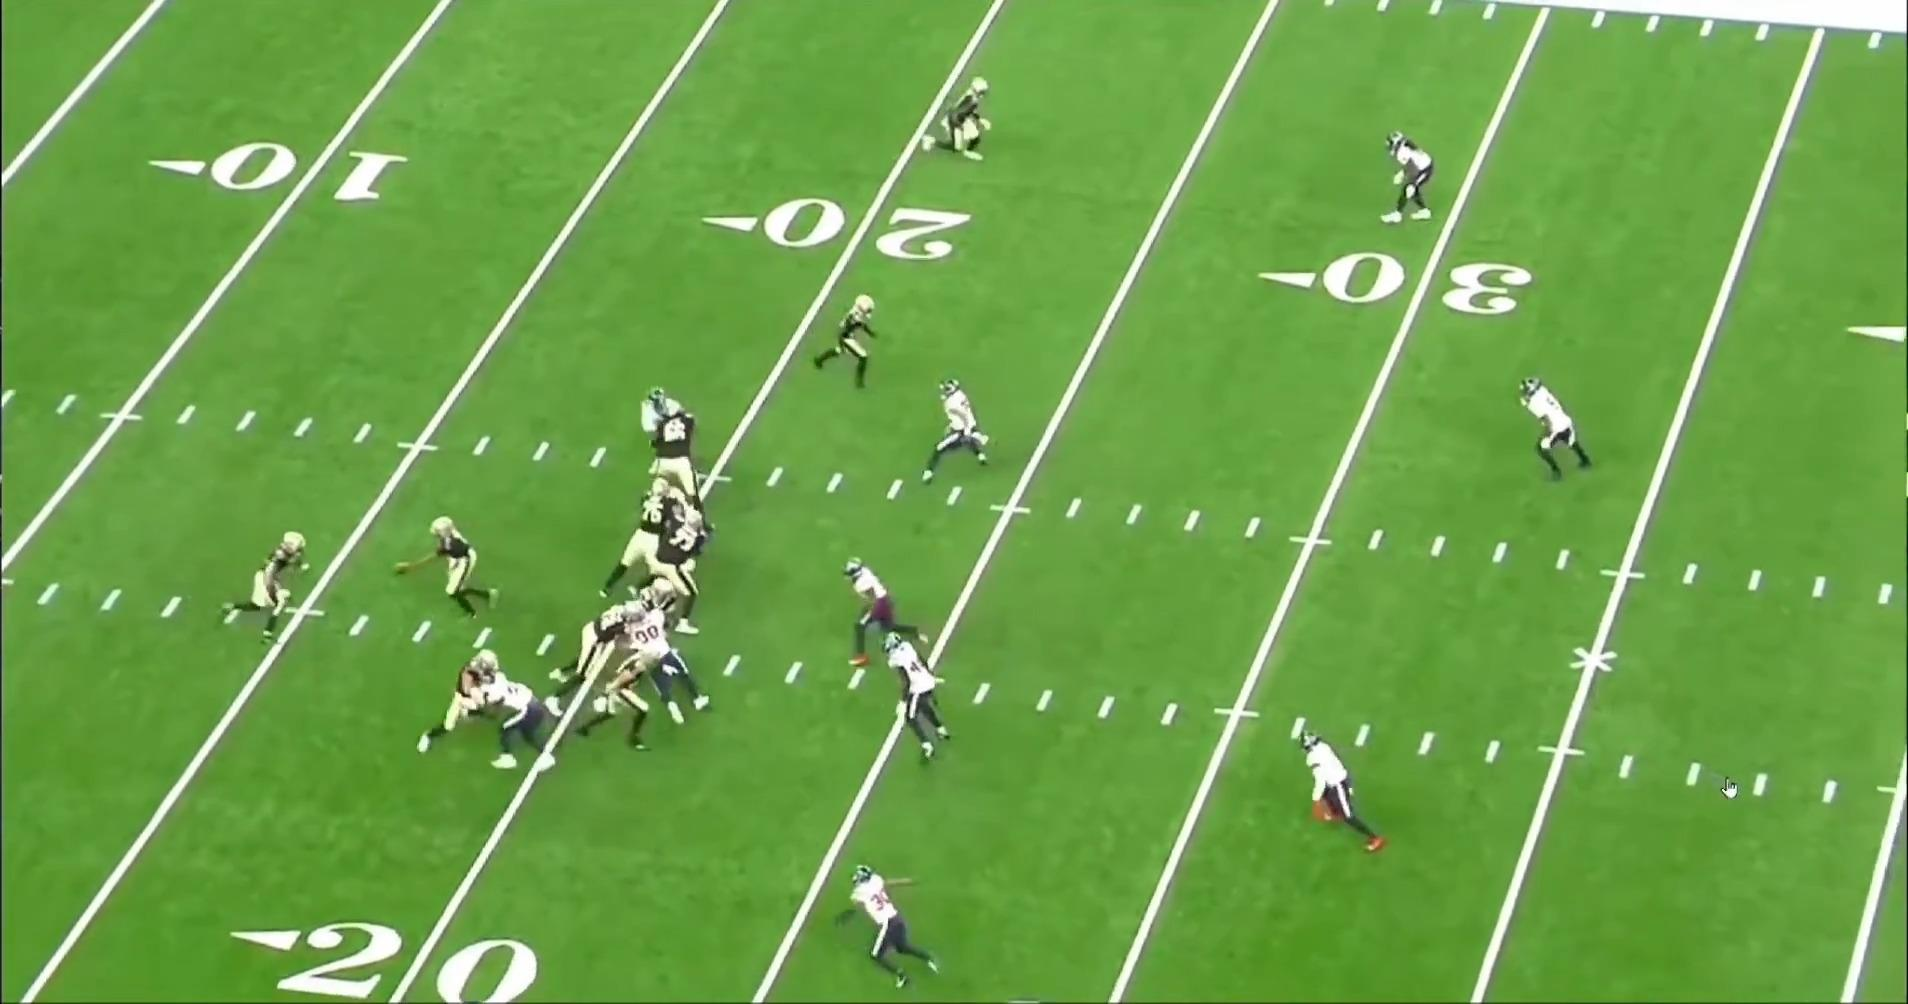defense: (1298, 728, 1394, 861), (840, 864, 939, 991), (621, 600, 713, 724), (837, 555, 929, 670), (468, 661, 560, 776), (888, 629, 959, 761), (1513, 372, 1593, 484), (915, 377, 992, 492), (635, 385, 700, 499), (1386, 124, 1446, 227), (650, 474, 709, 557)
oline: (640, 392, 721, 539), (601, 484, 695, 604), (640, 505, 710, 641), (544, 597, 639, 687), (616, 575, 681, 634)
qb: (396, 516, 495, 627)
skill: (403, 650, 501, 763), (573, 641, 660, 756), (254, 523, 321, 645), (809, 291, 882, 394), (916, 78, 993, 172)
